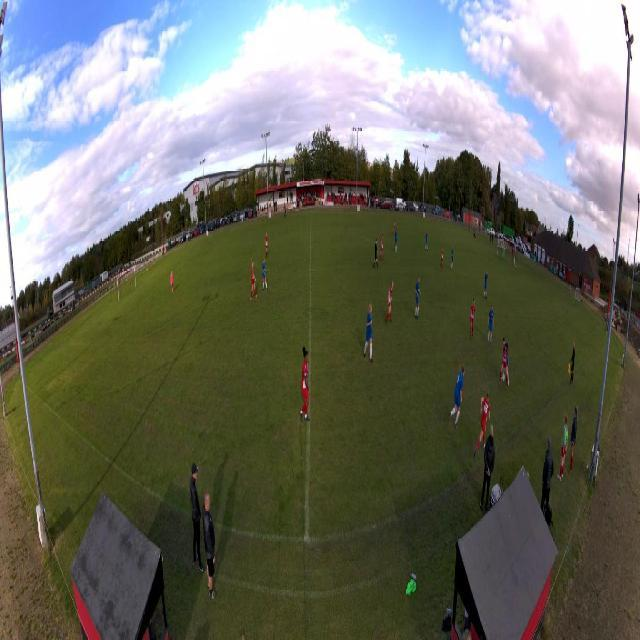ball: (502, 373, 505, 381)
player: (473, 390, 491, 460), (447, 362, 465, 430), (299, 345, 311, 423), (363, 303, 373, 364), (498, 341, 509, 391), (501, 337, 510, 387), (385, 279, 394, 325), (250, 259, 259, 303), (487, 303, 495, 347), (469, 298, 477, 340), (261, 256, 269, 294), (415, 273, 421, 320), (373, 238, 380, 272), (439, 245, 445, 273), (483, 269, 488, 301), (264, 231, 269, 259), (380, 232, 384, 262), (450, 244, 454, 272), (394, 228, 398, 255), (170, 269, 174, 295), (425, 229, 429, 253), (392, 216, 396, 236), (502, 245, 505, 263)
